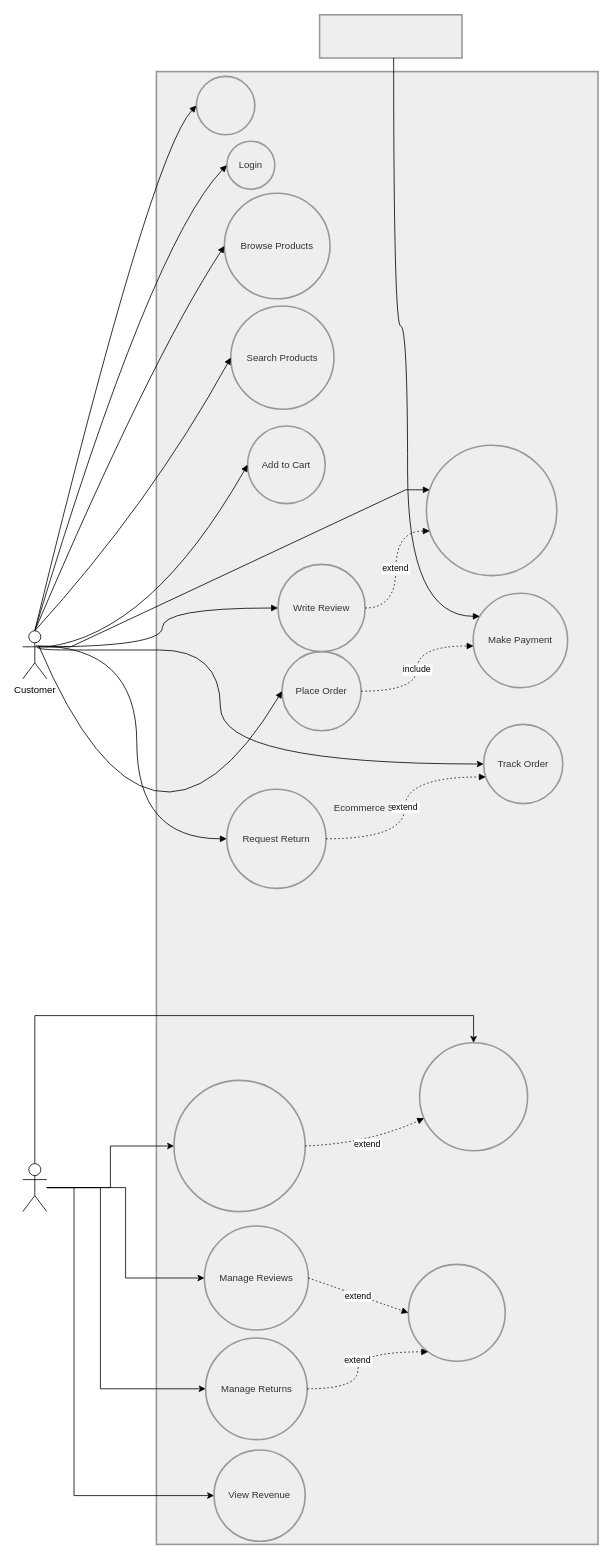
The diagram is 612 pixels wide and 1558 high, and some of its shapes have lost their labels. Here are the shapes that lost their labels. From the top down, the centre of each, then its label:
At point (390, 36): "Payment Service".
At point (225, 105): "Register".
At point (491, 510): "View Product Details".
At point (473, 1096): "Manage Products".
At point (239, 1145): "Set Product Discount".
At point (34, 1187): "Admin".
At point (456, 1312): "Manage Orders".
